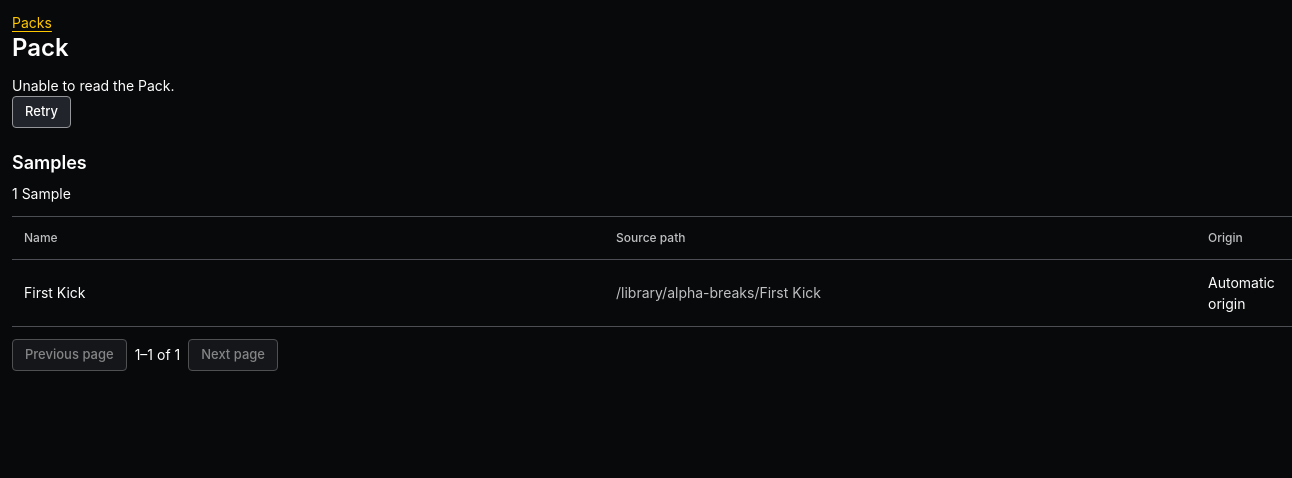
Test: a failed Pack read keeps the Samples list and retries only that read
The image size is (1292, 478).
expect the message shows "Unable to read the Pack.": met, box [12,77,175,94]
expect the row "First Kick /library/alpha-breaks/First Kick Automatic origin" is shown: met, box [12,260,1291,326]
What coordinates should you click on to do the following:
click the button "Retry"
I would click on:
 (42, 112)
Its box is [12,96,71,128].
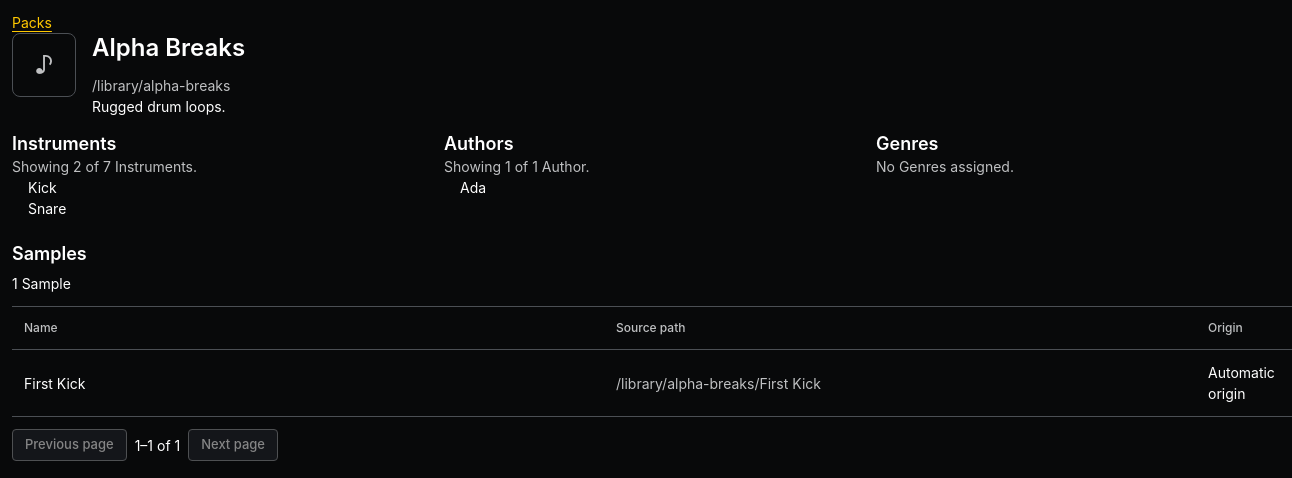
expect the row "First Kick /library/alpha-breaks/First Kick Automatic origin" is shown: met, box [12,350,1291,417]
expect the heading "Alpha Breaks" is shown: met, box [92,33,245,62]
